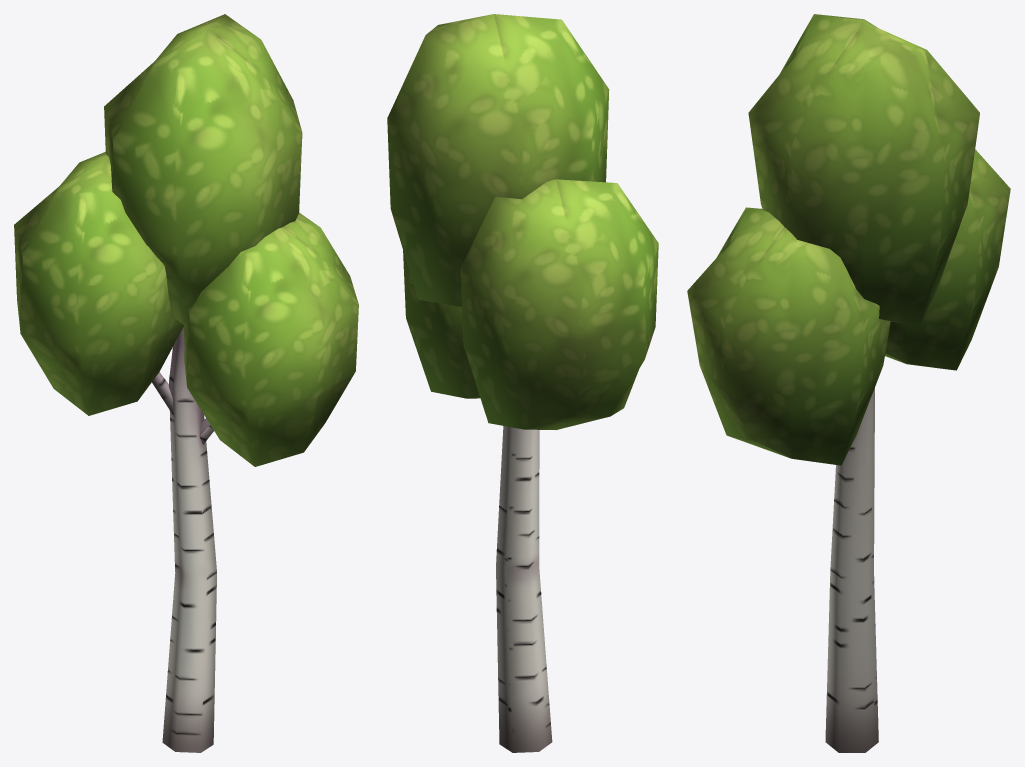
Rendered from birch_tree.obj.
3 views of the same model, side by side, from view 1: azimuth 30°, elevation 25°; view 2: azimuth 150°, elevation 25°; view 3: azimuth 270°, elevation 25° (orthographic). The views are drawn at different scales.
Parts seen in each view (by area): view 1: BirchTree; view 2: BirchTree; view 3: BirchTree.
Boxes of the visible parts, x1=… form: BirchTree: x1=14, y1=14, x2=358, y2=752; BirchTree: x1=387, y1=14, x2=658, y2=752; BirchTree: x1=687, y1=14, x2=1010, y2=752.
Bounding box in the file's own units: 2.75 × 6.68 × 2.67.
Materials: 1 (1 with a texture image).
